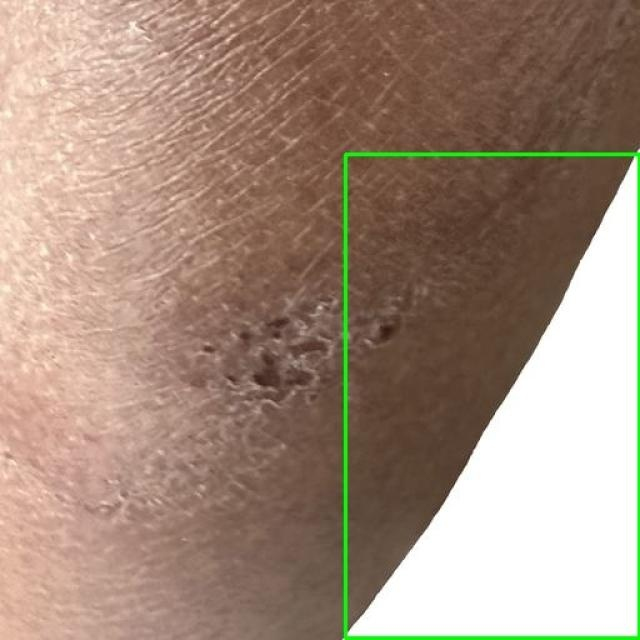Atopic Dermatitis: (345, 154, 639, 639)
